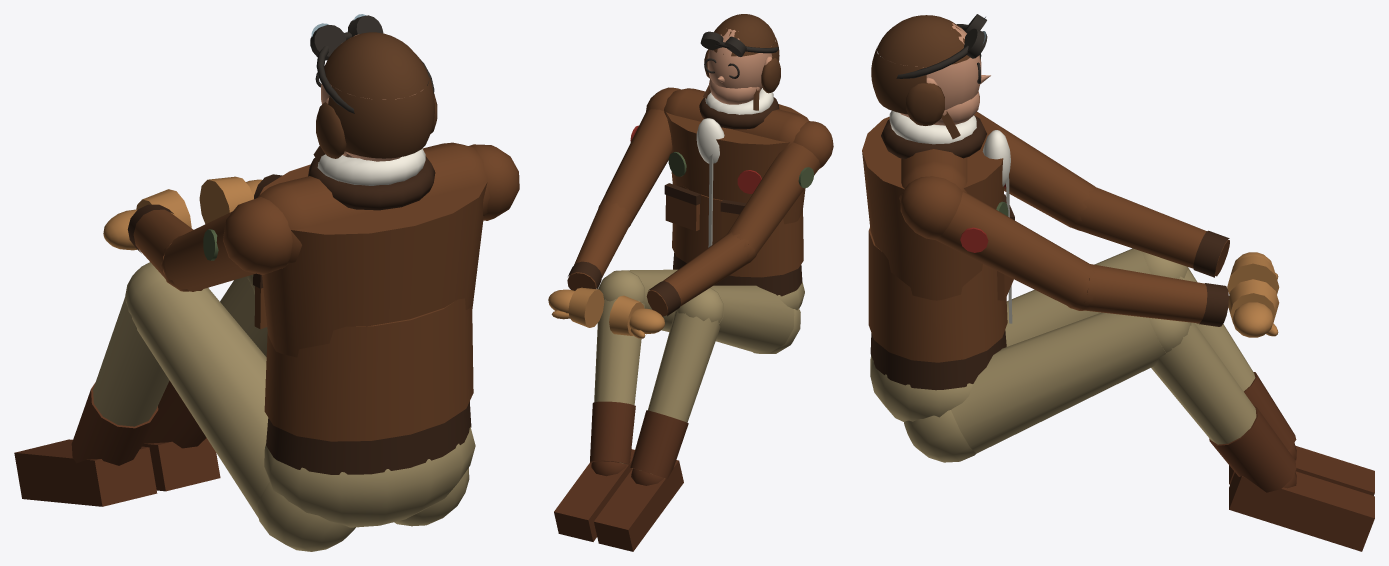
Rendered from pilot-c172.glb.
The picture shows the model from 3 angles, left to right: view 1: azimuth 30°, elevation 25°; view 2: azimuth 150°, elevation 25°; view 3: azimuth 270°, elevation 25°; orthographic projection. The views are drawn at different scales.
Visible parts, largest first — view 1: Pilot_Torso_pilot-cessna-leather-jacket, Pilot_Leg_L_Thigh_pilot-cessna-khaki, Pilot_Head_pilot-cessna-leather-helmet, Pilot_Torso_pilot-cessna-knit, Pilot_Torso_pilot-cessna-khaki, Pilot_Arm_L_Upper_pilot-cessna-leather-jacket, Pilot_Leg_L_Foot_pilot-cessna-boots, Pilot_Leg_L_Shin_pilot-cessna-khaki, Pilot_Leg_L_Shin_pilot-cessna-boots, Pilot_Leg_R_Foot_pilot-cessna-boots, Pilot_Head_pilot-cessna-scarf, Pilot_Leg_R_Shin_pilot-cessna-boots (+7 smaller); view 2: Pilot_Torso_pilot-cessna-leather-jacket, Pilot_Leg_L_Thigh_pilot-cessna-khaki, Pilot_Arm_L_Upper_pilot-cessna-leather-jacket, Pilot_Leg_L_Shin_pilot-cessna-khaki, Pilot_Arm_R_Upper_pilot-cessna-leather-jacket, Pilot_Leg_L_Foot_pilot-cessna-boots, Pilot_Leg_R_Foot_pilot-cessna-boots, Pilot_Leg_R_Shin_pilot-cessna-khaki, Pilot_Arm_L_Fore_pilot-cessna-leather-jacket, Pilot_Torso_pilot-cessna-knit, Pilot_Head_pilot-civil-skin, Pilot_Arm_R_Fore_pilot-cessna-leather-jacket (+14 smaller); view 3: Pilot_Torso_pilot-cessna-leather-jacket, Pilot_Leg_R_Thigh_pilot-cessna-khaki, Pilot_Arm_R_Upper_pilot-cessna-leather-jacket, Pilot_Leg_R_Foot_pilot-cessna-boots, Pilot_Head_pilot-cessna-leather-helmet, Pilot_Leg_R_Shin_pilot-cessna-khaki, Pilot_Arm_L_Fore_pilot-cessna-leather-jacket, Pilot_Torso_pilot-cessna-knit, Pilot_Arm_R_Fore_pilot-cessna-leather-jacket, Pilot_Arm_L_Upper_pilot-cessna-leather-jacket, Pilot_Leg_L_Thigh_pilot-cessna-khaki, Pilot_Leg_R_Shin_pilot-cessna-boots (+11 smaller).
Boxes of the visible parts, x1,y1,x2,y2 form: Pilot_Torso_pilot-cessna-leather-jacket: (254, 142, 489, 441); Pilot_Leg_L_Thigh_pilot-cessna-khaki: (125, 262, 355, 551); Pilot_Head_pilot-cessna-leather-helmet: (313, 32, 437, 162); Pilot_Torso_pilot-cessna-knit: (253, 156, 471, 474); Pilot_Torso_pilot-cessna-khaki: (264, 427, 475, 527); Pilot_Arm_L_Upper_pilot-cessna-leather-jacket: (160, 197, 292, 291); Pilot_Leg_L_Foot_pilot-cessna-boots: (14, 439, 157, 506); Pilot_Leg_L_Shin_pilot-cessna-khaki: (93, 297, 169, 426); Pilot_Leg_L_Shin_pilot-cessna-boots: (71, 382, 158, 465); Pilot_Leg_R_Foot_pilot-cessna-boots: (142, 438, 220, 491); Pilot_Head_pilot-cessna-scarf: (317, 148, 425, 185); Pilot_Leg_R_Shin_pilot-cessna-boots: (143, 380, 206, 448); Pilot_Torso_pilot-cessna-leather-jacket: (664, 88, 808, 277); Pilot_Leg_L_Thigh_pilot-cessna-khaki: (676, 285, 800, 353); Pilot_Arm_L_Upper_pilot-cessna-leather-jacket: (727, 121, 833, 263); Pilot_Leg_L_Shin_pilot-cessna-khaki: (632, 309, 720, 468); Pilot_Arm_R_Upper_pilot-cessna-leather-jacket: (597, 87, 680, 226); Pilot_Leg_L_Foot_pilot-cessna-boots: (594, 460, 683, 551); Pilot_Leg_R_Foot_pilot-cessna-boots: (554, 449, 634, 541); Pilot_Leg_R_Shin_pilot-cessna-khaki: (594, 299, 645, 463); Pilot_Arm_L_Fore_pilot-cessna-leather-jacket: (646, 232, 752, 316); Pilot_Torso_pilot-cessna-knit: (664, 97, 802, 296); Pilot_Head_pilot-civil-skin: (707, 28, 772, 104); Pilot_Arm_R_Fore_pilot-cessna-leather-jacket: (567, 201, 632, 290); Pilot_Torso_pilot-cessna-leather-jacket: (862, 113, 1013, 362); Pilot_Leg_R_Thigh_pilot-cessna-khaki: (904, 312, 1191, 462); Pilot_Arm_R_Upper_pilot-cessna-leather-jacket: (900, 176, 1096, 310); Pilot_Leg_R_Foot_pilot-cessna-boots: (1229, 471, 1374, 551); Pilot_Head_pilot-cessna-leather-helmet: (871, 15, 970, 139); Pilot_Leg_R_Shin_pilot-cessna-khaki: (1151, 322, 1256, 444); Pilot_Arm_L_Fore_pilot-cessna-leather-jacket: (1074, 185, 1229, 276); Pilot_Torso_pilot-cessna-knit: (870, 115, 1014, 390); Pilot_Arm_R_Fore_pilot-cessna-leather-jacket: (1080, 264, 1207, 323); Pilot_Arm_L_Upper_pilot-cessna-leather-jacket: (975, 111, 1095, 230); Pilot_Leg_L_Thigh_pilot-cessna-khaki: (1005, 248, 1188, 346); Pilot_Leg_R_Shin_pilot-cessna-boots: (1209, 405, 1296, 492).
Bounding box in the file's own units: 0.5221 × 1.1 × 0.9827.
